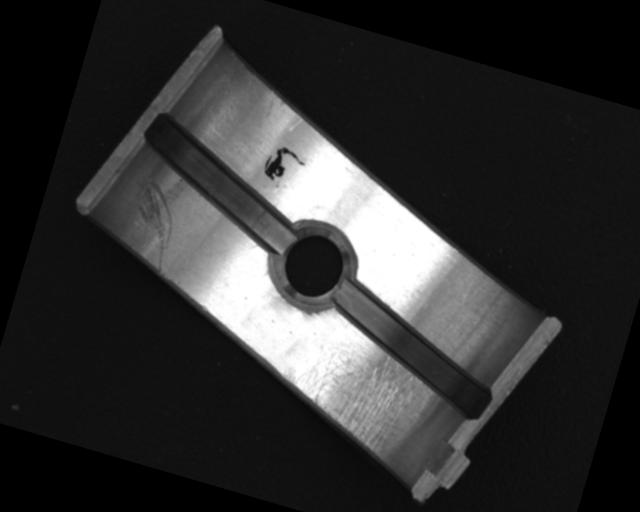blot: (260, 141, 310, 189)
gap: (311, 278, 517, 426), (120, 107, 320, 258)
hole: (265, 215, 362, 314)
nick: (116, 171, 187, 274)
scratch: (275, 332, 421, 461)
